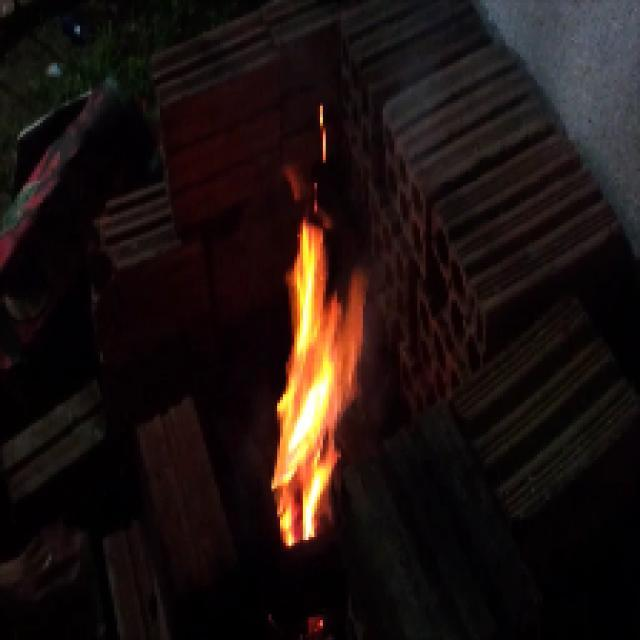Fire: (252, 231, 374, 530)
